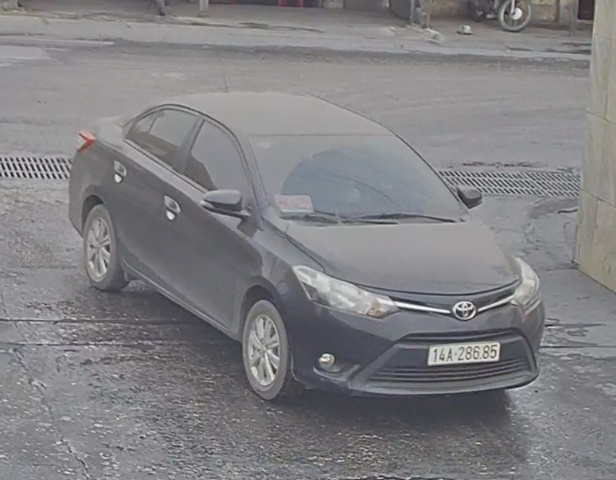vehicle plate: (420, 342, 507, 363)
